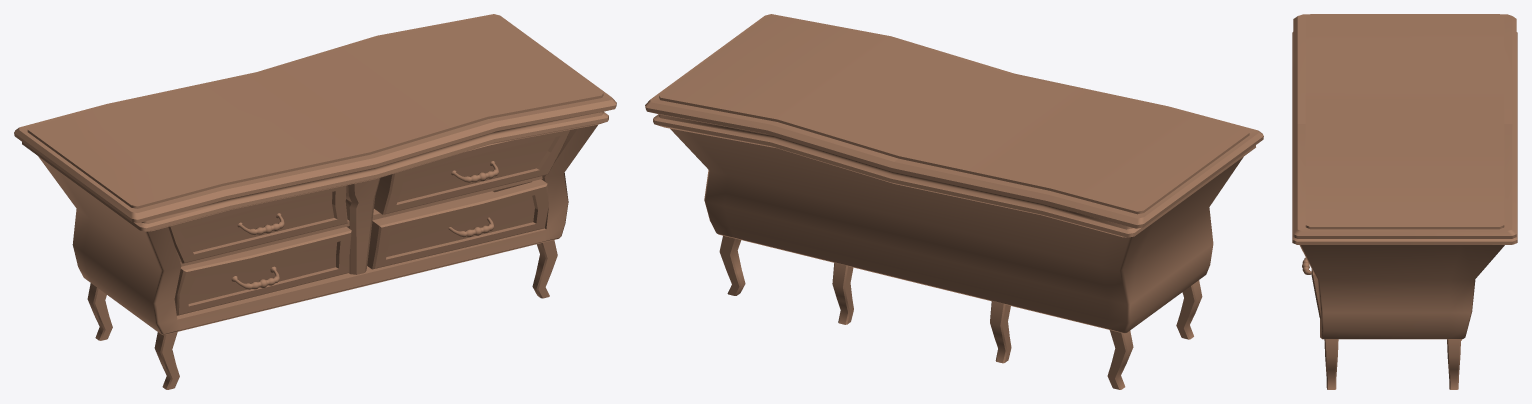
Rendered from SM_Commode_02_Final_UV_Trou.fbx.
3 views of the same model, side by side, from view 1: azimuth 30°, elevation 25°; view 2: azimuth 150°, elevation 25°; view 3: azimuth 270°, elevation 25° (orthographic). The views are drawn at different scales.
Visible parts, largest first — view 1: SM_Commode_02_Final, SM_Tiroir_04_Commode_02_Final2, SM_Tiroir_03_Commode_02_Final1, SM_Tiroir_02_Commode_02_Final2, SM_Tiroir_01_Commode_02_Final2; view 2: SM_Commode_02_Final; view 3: SM_Commode_02_Final, SM_Tiroir_04_Commode_02_Final2.
Part boxes in pixels (x1=…): SM_Commode_02_Final: x1=14, y1=14, x2=616, y2=389; SM_Tiroir_04_Commode_02_Final2: x1=367, y1=179, x2=548, y2=269; SM_Tiroir_03_Commode_02_Final1: x1=174, y1=227, x2=351, y2=315; SM_Tiroir_02_Commode_02_Final2: x1=374, y1=130, x2=570, y2=214; SM_Tiroir_01_Commode_02_Final2: x1=168, y1=185, x2=347, y2=263; SM_Commode_02_Final: x1=645, y1=14, x2=1263, y2=389; SM_Commode_02_Final: x1=1292, y1=14, x2=1517, y2=389; SM_Tiroir_04_Commode_02_Final2: x1=1302, y1=257, x2=1320, y2=318.
Size of the model in its own units: 2.69 by 1.09 by 1.18.
